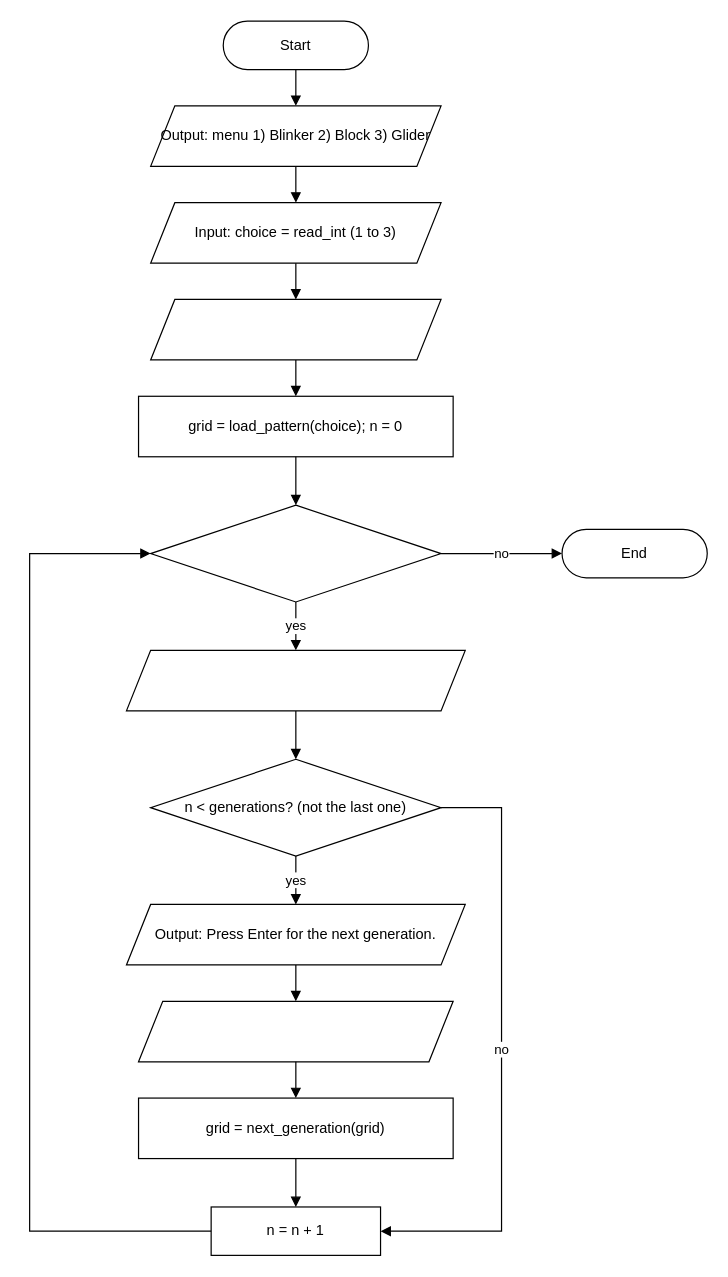
Some shapes in this 728 by 1277 pixel diagram are drawn without their labels. The shapes that lost their labels are listed below. From the top down, each one's centre as x and y in pixels, then its label:
At (x=295, y=329): "Input: generations = read_int (1 to 100)".
At (x=295, y=553): "n <= generations?".
At (x=295, y=680): "Output: Generation n, population P, then the grid".
At (x=295, y=1031): "Input: wait for Enter (new String)".
